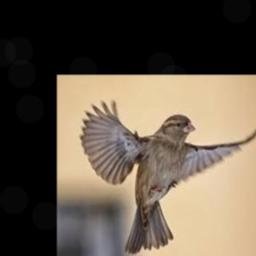Sparrow: (80, 99, 256, 253)
